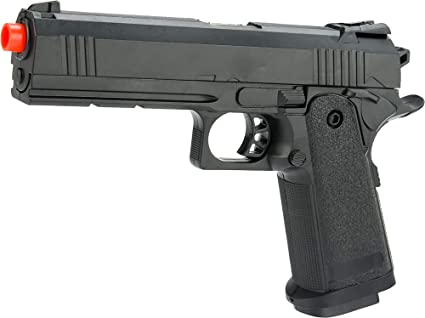Arma Falsa: (1, 1, 421, 312)
